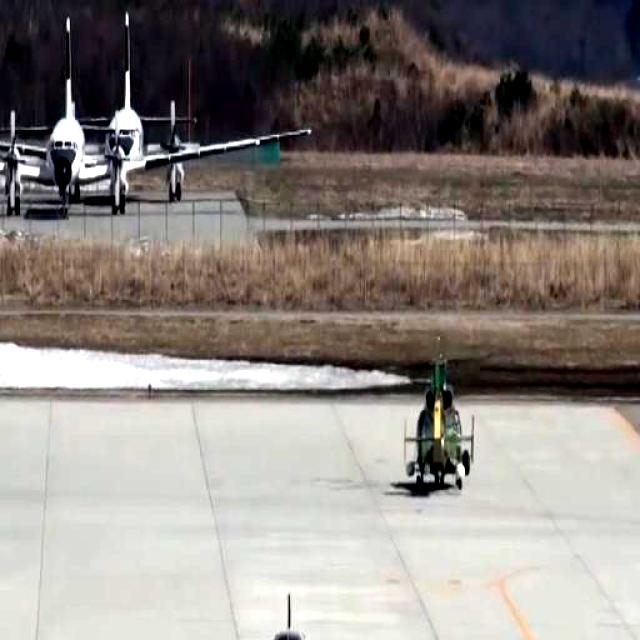drone: (390, 336, 485, 504)
